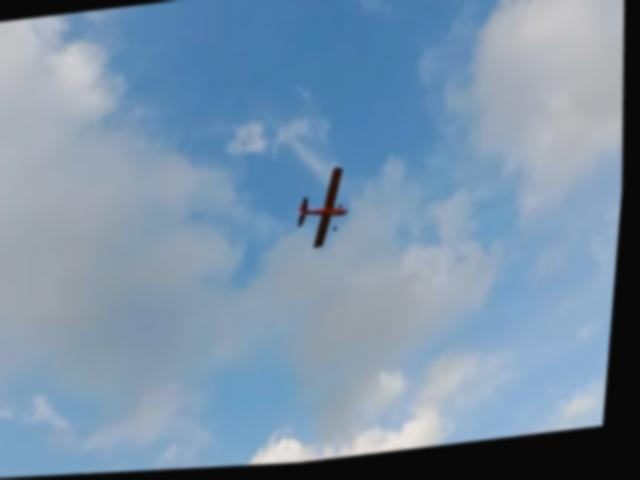plane: (296, 170, 358, 254)
